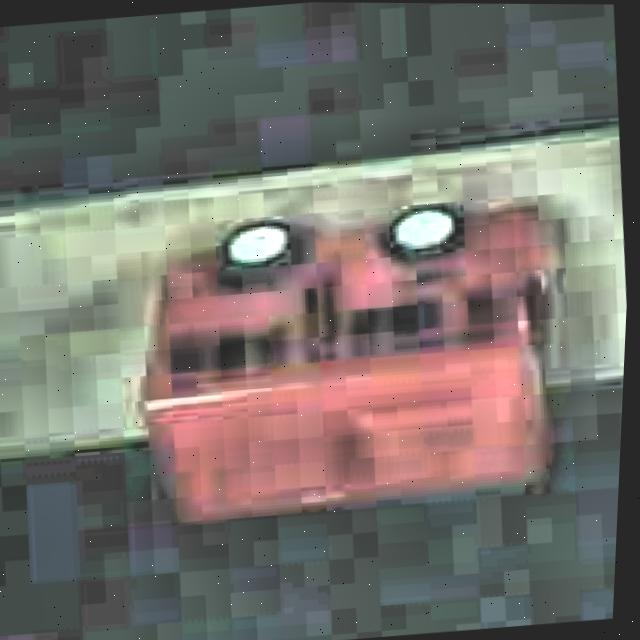bus: (118, 188, 575, 540)
